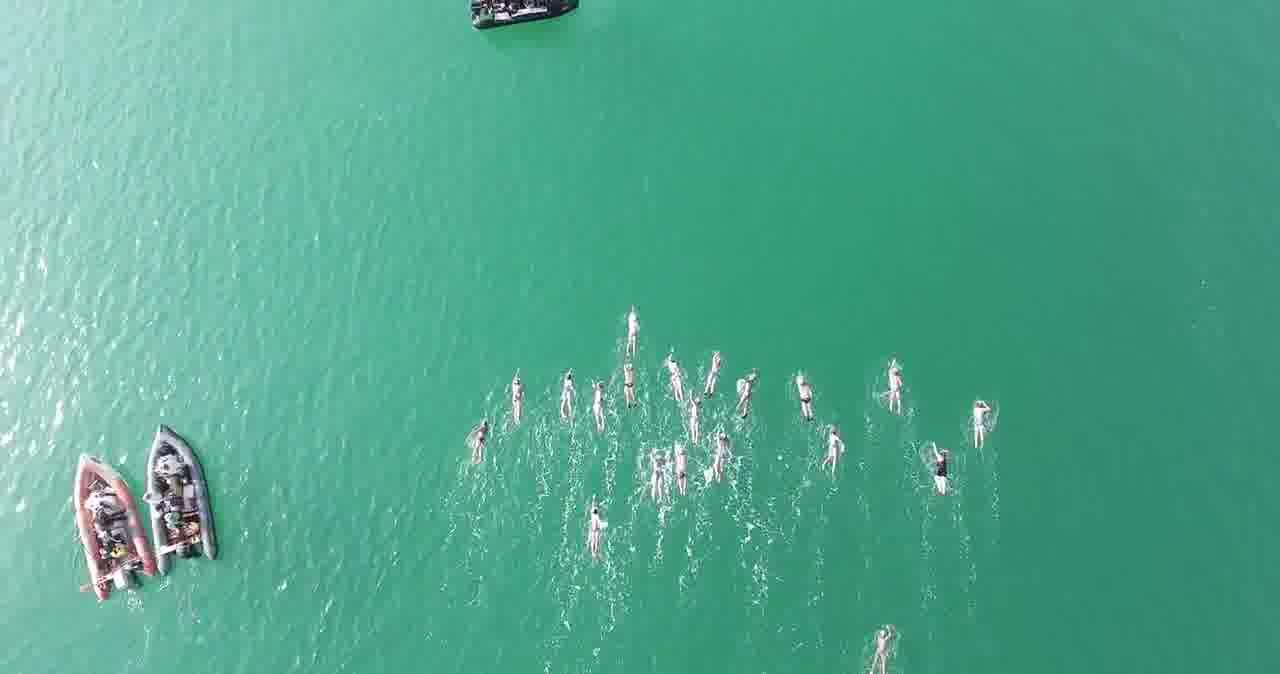swimmer: (864, 618, 921, 670), (966, 380, 1003, 448), (575, 497, 614, 556), (875, 354, 912, 409), (783, 365, 821, 417), (922, 436, 956, 494), (617, 302, 650, 358), (640, 442, 668, 504), (820, 419, 852, 470), (735, 363, 766, 415), (708, 425, 737, 479), (586, 375, 614, 424), (461, 418, 490, 465), (496, 370, 524, 418), (702, 341, 726, 392), (665, 347, 689, 398), (554, 364, 578, 415), (618, 363, 646, 402), (671, 442, 688, 486), (681, 402, 700, 432)
